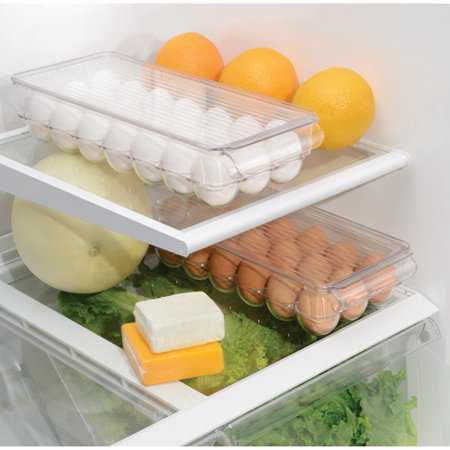egg: (24, 65, 313, 195), (200, 208, 414, 331)
